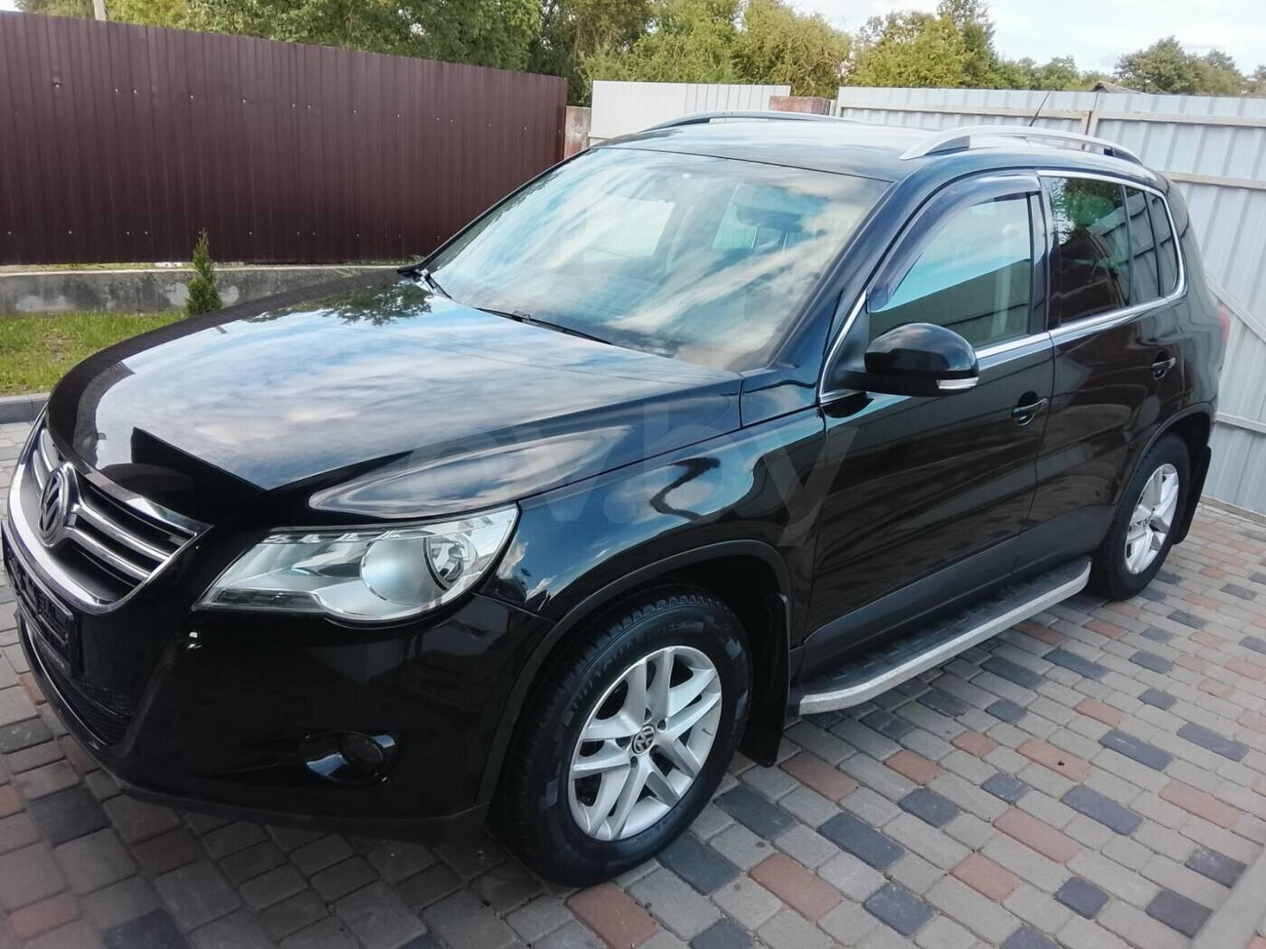Tiguan_2007-2011: (5, 115, 1222, 868)
